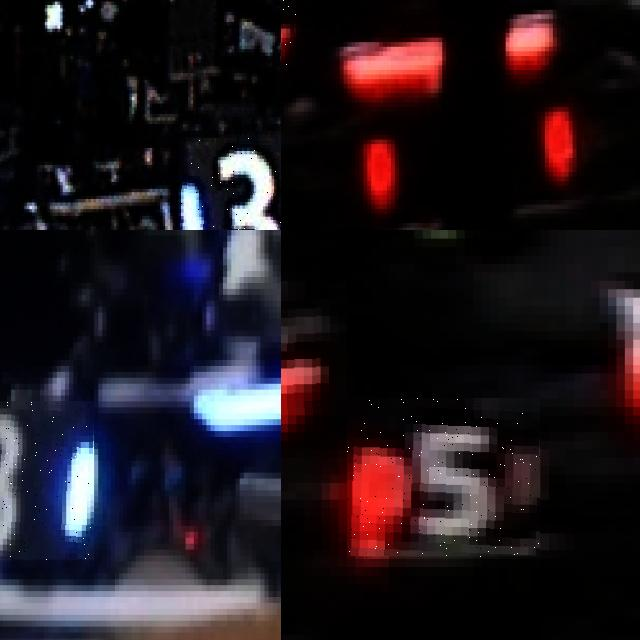B3: (0, 401, 94, 561), (178, 137, 281, 230)
R5: (347, 398, 540, 558), (281, 280, 347, 415)
